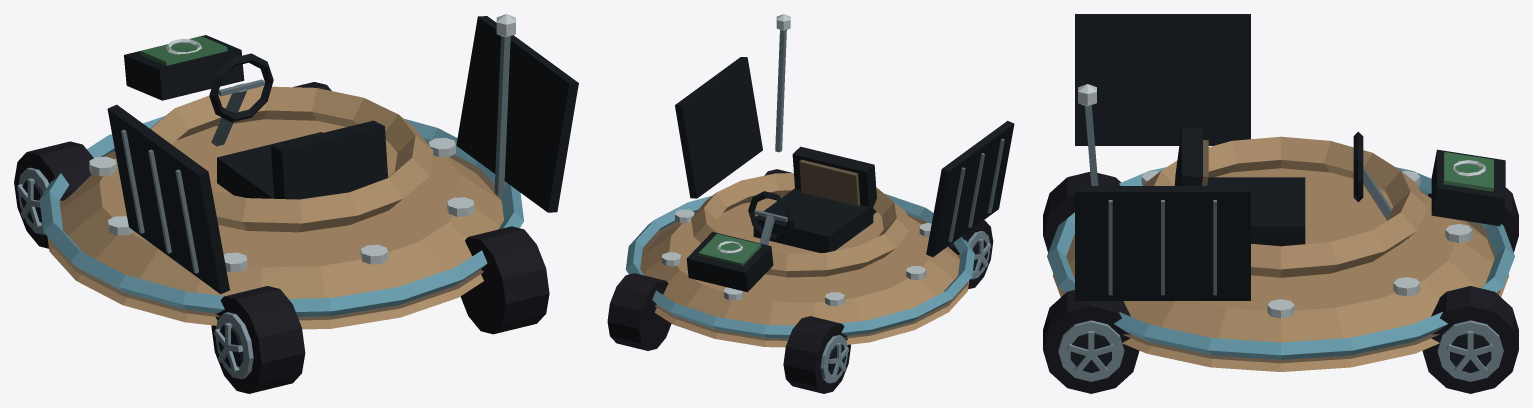
The model's file is kart.glb.
The picture shows the model from 3 angles, left to right: view 1: azimuth 30°, elevation 25°; view 2: azimuth 150°, elevation 25°; view 3: azimuth 270°, elevation 25°; orthographic projection. The views are drawn at different scales.
Visible parts, largest first — view 1: identity-saucer-saucer-double-rim, identity-saucer-motif-solar-panels, identity-saucer-driver-cockpit, wheel-rear-left, wheel-rear-right, identity-saucer-motif-scanner, wheel-front-left, identity-saucer-motif-antenna; view 2: identity-saucer-saucer-double-rim, identity-saucer-motif-solar-panels, identity-saucer-driver-cockpit, wheel-front-left, identity-saucer-motif-scanner, wheel-front-right, wheel-rear-left, identity-saucer-motif-antenna; view 3: identity-saucer-saucer-double-rim, identity-saucer-motif-solar-panels, wheel-front-right, wheel-rear-right, identity-saucer-driver-cockpit, identity-saucer-motif-scanner, wheel-rear-left, identity-saucer-motif-antenna, wheel-front-left.
Part boxes in pixels (box(x1,y1,x2,y2)): identity-saucer-saucer-double-rim: box(39, 86, 523, 329); identity-saucer-motif-solar-panels: box(107, 16, 578, 294); identity-saucer-driver-cockpit: box(209, 53, 387, 199); wheel-rear-left: box(211, 286, 305, 393); wheel-rear-right: box(460, 226, 549, 334); identity-saucer-motif-scanner: box(124, 35, 244, 100); wheel-front-left: box(14, 141, 93, 248); identity-saucer-motif-antenna: box(494, 14, 515, 196); identity-saucer-saucer-double-rim: box(626, 173, 974, 347); identity-saucer-motif-solar-panels: box(675, 57, 1014, 257); identity-saucer-driver-cockpit: box(748, 146, 876, 252); wheel-front-left: box(783, 316, 850, 393); identity-saucer-motif-scanner: box(686, 232, 773, 292); wheel-front-right: box(607, 273, 671, 350); wheel-rear-left: box(948, 220, 993, 289); identity-saucer-motif-antenna: box(775, 14, 790, 152); identity-saucer-saucer-double-rim: box(1047, 136, 1514, 371); identity-saucer-motif-solar-panels: box(1075, 14, 1250, 300); wheel-front-right: box(1422, 286, 1518, 393); wheel-rear-right: box(1043, 290, 1139, 393); identity-saucer-driver-cockpit: box(1174, 127, 1409, 246); identity-saucer-motif-scanner: box(1431, 149, 1505, 226); wheel-rear-left: box(1043, 172, 1120, 252); identity-saucer-motif-antenna: box(1078, 84, 1098, 185); wheel-front-left: box(1428, 187, 1518, 252).
Bounding box in the file's own units: 2.42 × 1.72 × 2.46.
